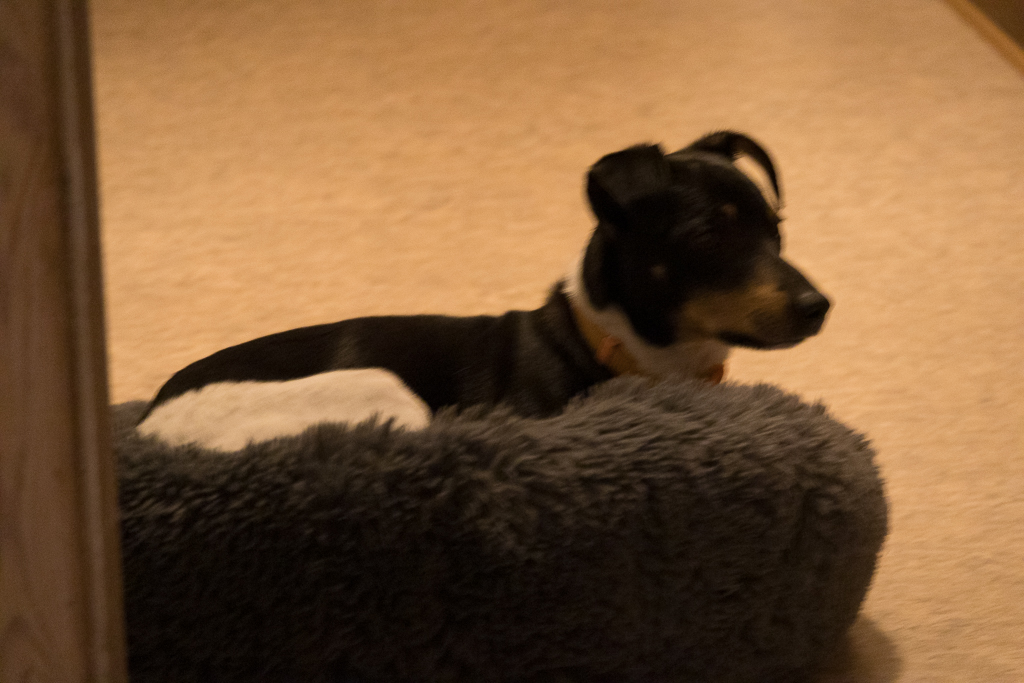Dog: (113, 124, 838, 471)
